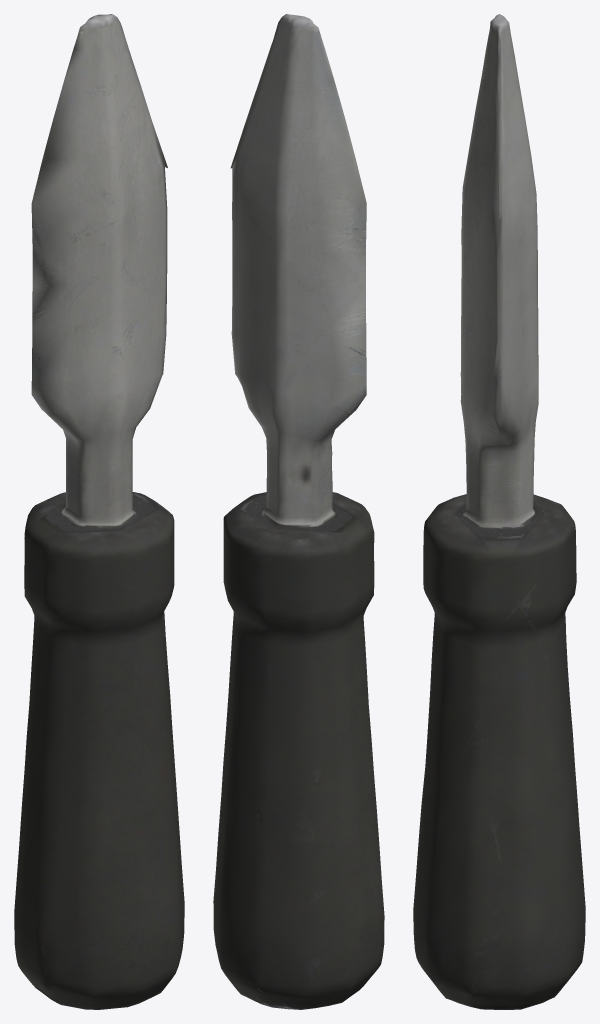
The model's file is chisel-steel.glb.
3 views of the same model, side by side, from view 1: azimuth 30°, elevation 25°; view 2: azimuth 150°, elevation 25°; view 3: azimuth 270°, elevation 25° (orthographic).
Bounding box in the file's own units: 0.3068 × 2 × 0.3194.
1 material, 1 textured.
